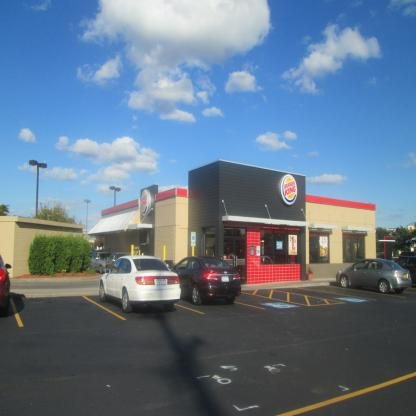Car: (99, 259, 183, 314), (170, 258, 243, 306), (338, 258, 413, 296), (1, 252, 13, 305), (396, 256, 416, 287)
